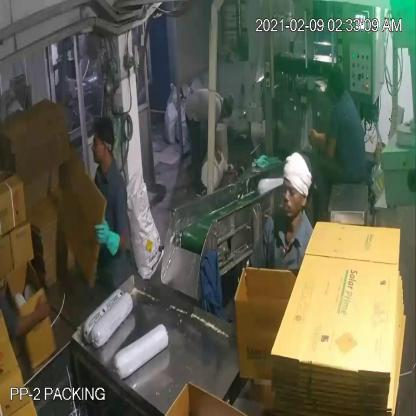glove: (92, 218, 121, 260)
no_glove: (5, 287, 54, 351), (304, 114, 329, 152), (315, 135, 338, 164)
